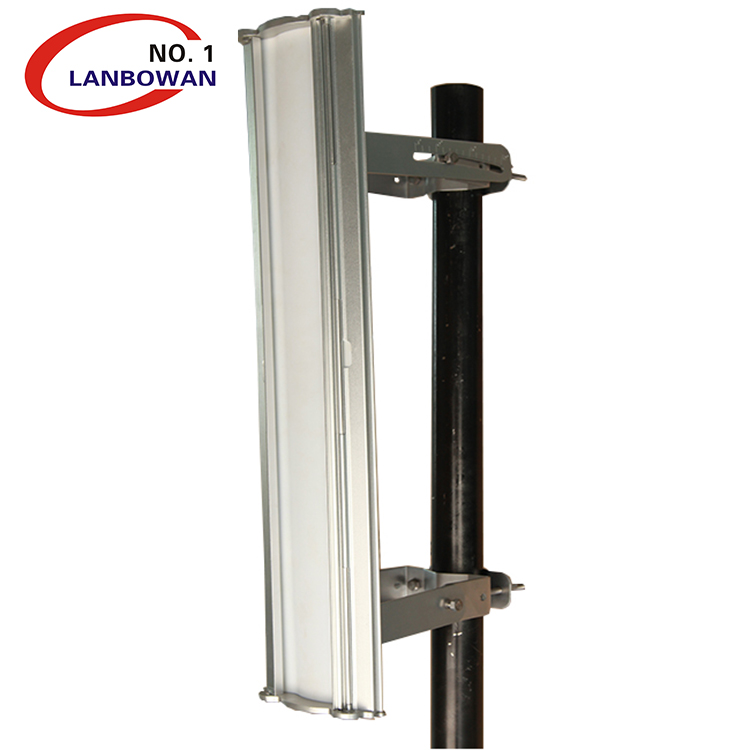sa: (227, 32, 457, 724)
